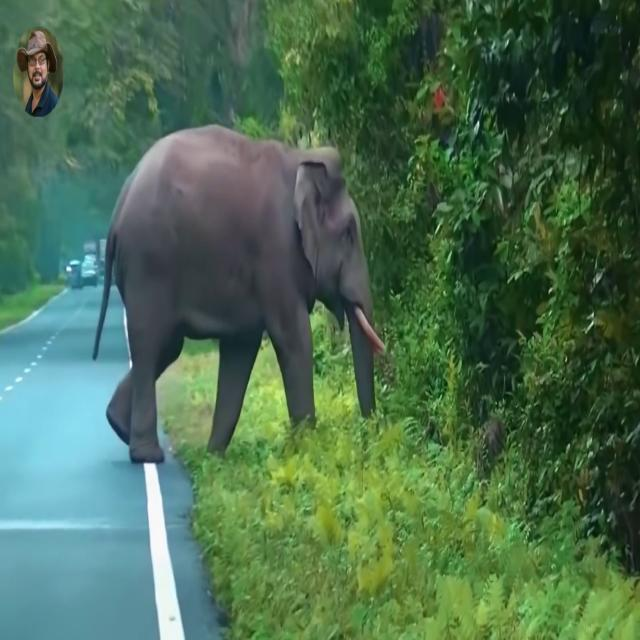Elephant: (92, 122, 385, 465)
